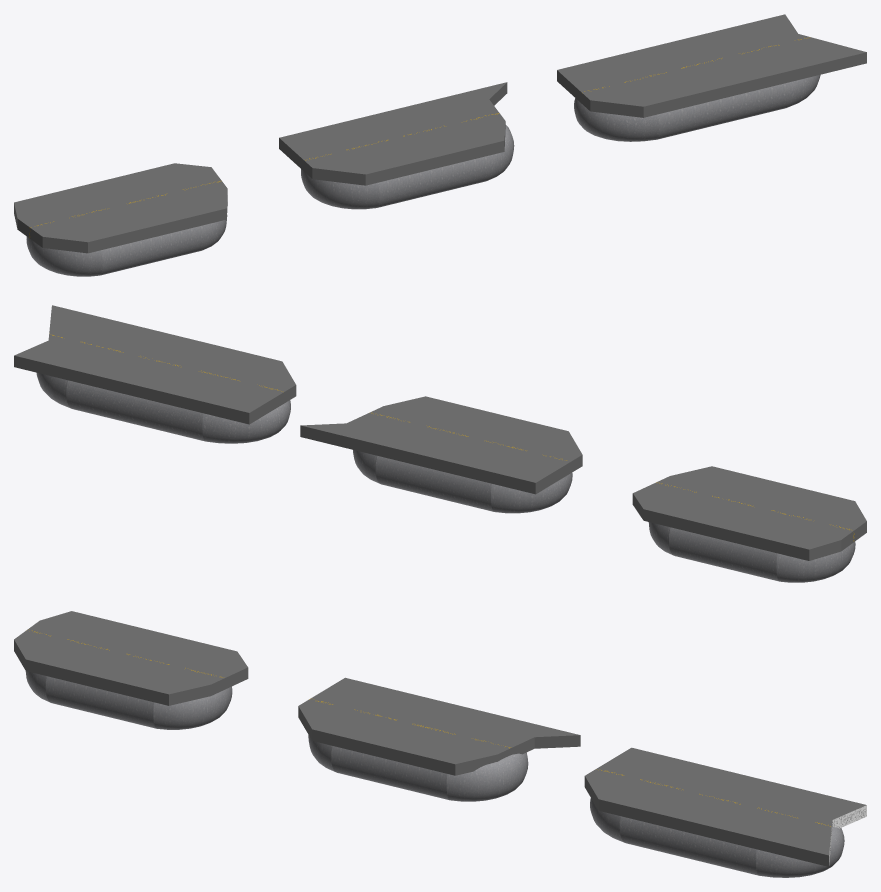
File: Road Sections.dae
The picture shows the model from 3 angles, top to bottom: view 1: azimuth 30°, elevation 25°; view 2: azimuth 150°, elevation 25°; view 3: azimuth 330°, elevation 25°; orthographic projection. The views are drawn at different scales.
Parts seen in each view (by area): view 1: group_1, group_0, group_2, group_5, group_3, group_4; view 2: group_1, group_0, group_2, group_5, group_3, group_4; view 3: group_1, group_0, group_2, group_3, group_5, group_4.
Boxes of the visible parts, x1,y1,x2,y2 form: group_1: [557, 14, 866, 117]; group_0: [279, 82, 507, 185]; group_2: [14, 163, 227, 253]; group_5: [574, 74, 820, 141]; group_3: [301, 125, 514, 209]; group_4: [26, 215, 227, 276]; group_1: [14, 305, 296, 424]; group_0: [300, 396, 582, 494]; group_2: [632, 466, 866, 560]; group_5: [36, 373, 290, 443]; group_3: [353, 450, 572, 513]; group_4: [648, 522, 855, 582]; group_1: [584, 747, 866, 866]; group_0: [298, 677, 580, 775]; group_2: [14, 611, 248, 705]; group_3: [308, 735, 528, 801]; group_5: [590, 798, 844, 877]; group_4: [25, 671, 232, 729].
Bounding box in the file's own units: 2290 × 291 × 117.
